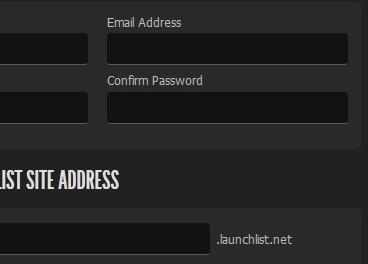field: (106, 29, 349, 65), (106, 88, 348, 123)
field_with_label: (105, 15, 351, 67), (103, 75, 350, 125)
